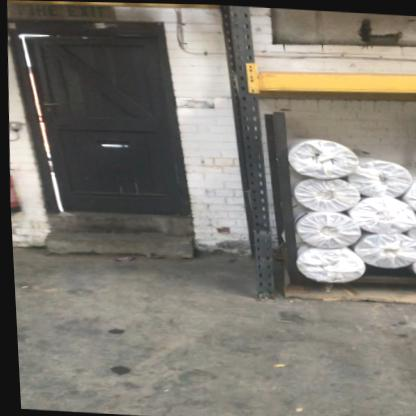vertical_damage: (235, 206, 276, 245)
